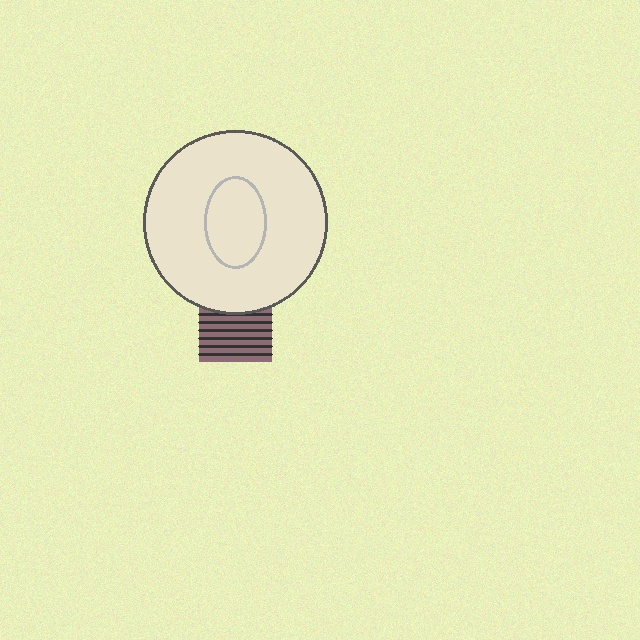bulb: (139, 126, 331, 366)
